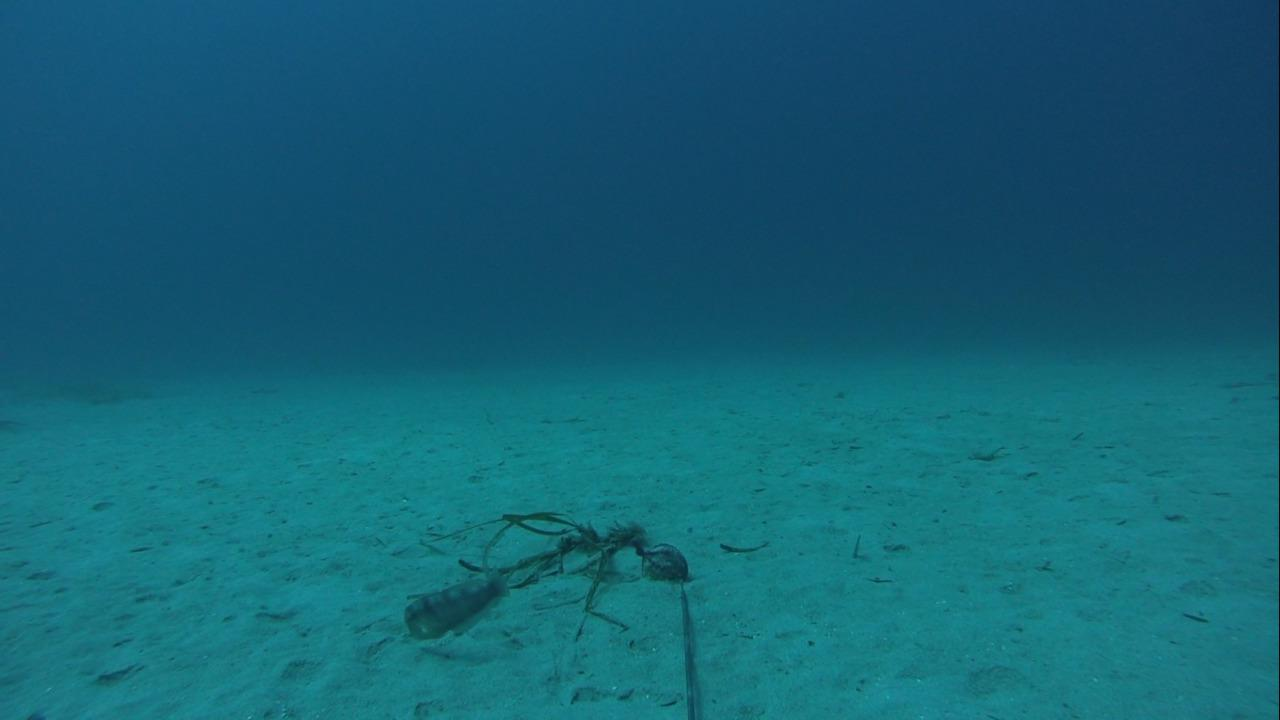raor: (399, 568, 515, 642)
